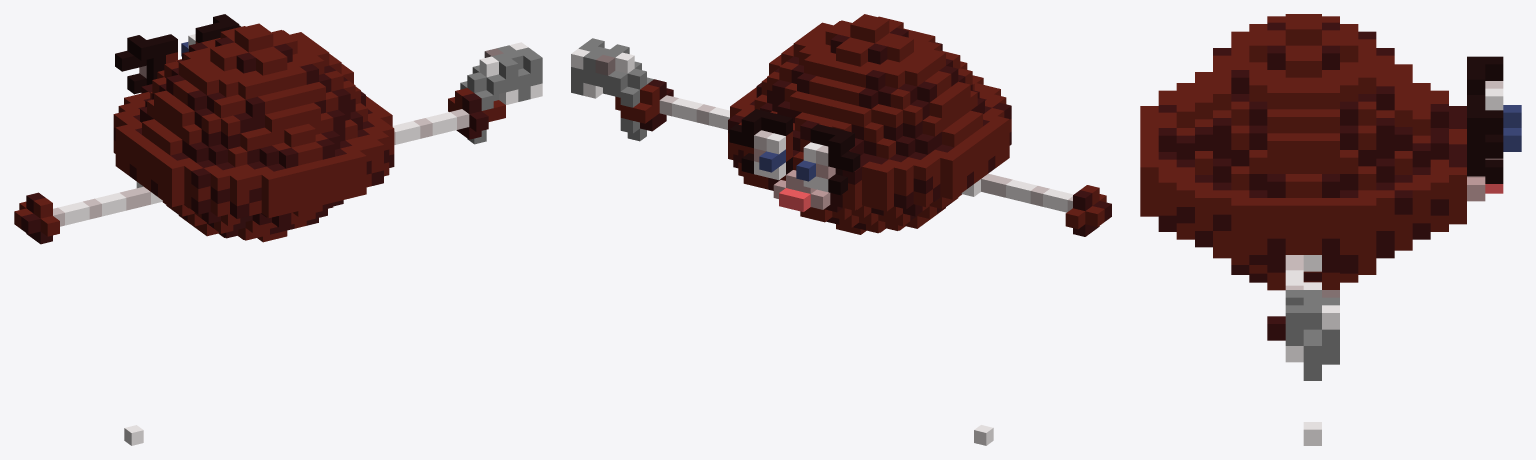
The model's file is Fire.fbx.
3 views of the same model, side by side, from view 1: azimuth 30°, elevation 25°; view 2: azimuth 150°, elevation 25°; view 3: azimuth 270°, elevation 25° (orthographic). The views are drawn at different scales.
Parts seen in each view (by area): view 1: GumPerson; view 2: GumPerson; view 3: GumPerson.
Boxes of the visible parts, x1,y1,x2,y2 form: GumPerson: (14,14,542,445); GumPerson: (571,14,1111,445); GumPerson: (1140,14,1521,445).
Bounding box in the file's own units: 420 × 300 × 210.
Materials: 1 (1 with a texture image).
